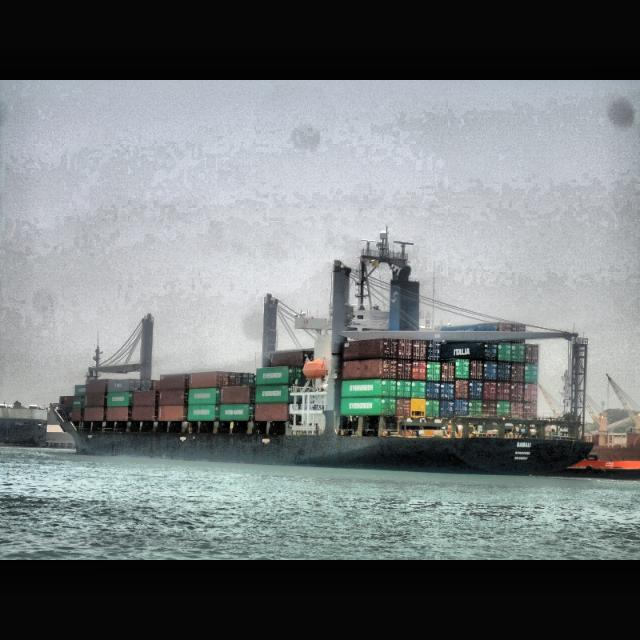container: (49, 276, 596, 476)
